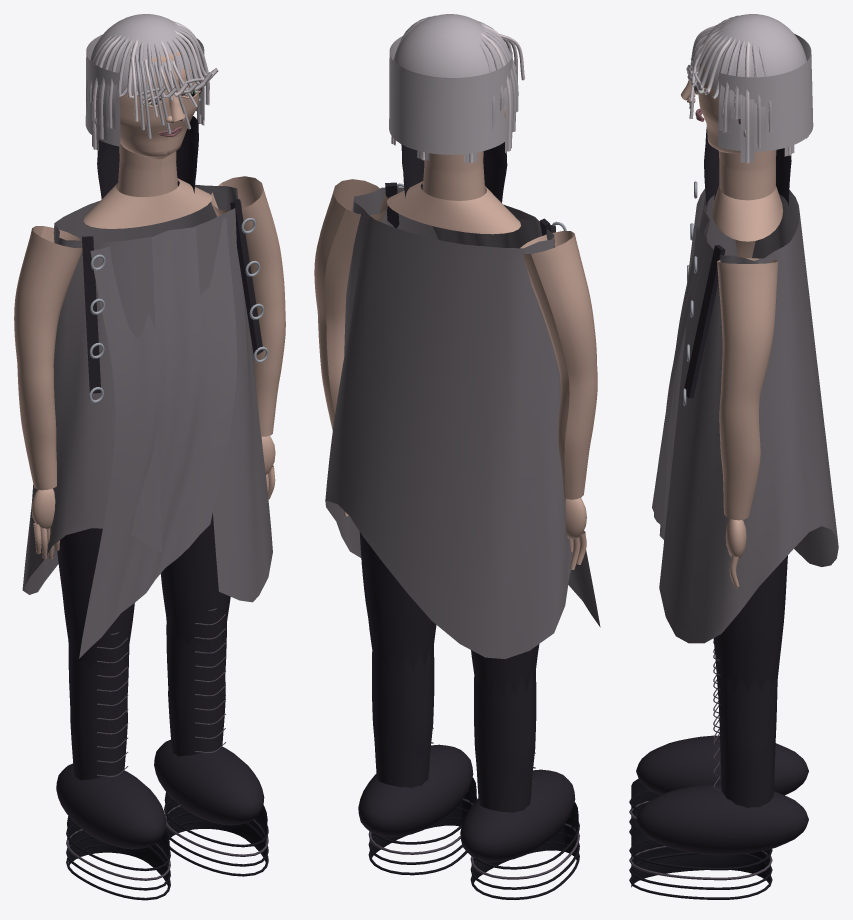
The model's file is look-7-detail.glb.
The picture shows the model from 3 angles, left to right: view 1: azimuth 30°, elevation 25°; view 2: azimuth 150°, elevation 25°; view 3: azimuth 270°, elevation 25°; orthographic projection. The views are drawn at different scales.
Visible parts, largest first — view 1: look-7-detail, leg-1, leg-0, arm-0, arm-1; view 2: look-7-detail, leg-1, leg-0, arm-0, arm-1; view 3: look-7-detail, leg-1, arm-1, leg-0.
Part boxes in pixels (x1,y1,x2,y2): look-7-detail: [22, 14, 272, 658]; leg-1: [154, 512, 268, 876]; leg-0: [56, 528, 170, 900]; arm-0: [14, 226, 82, 559]; arm-1: [211, 176, 285, 499]; look-7-detail: [325, 14, 600, 658]; leg-1: [358, 532, 477, 875]; leg-0: [460, 644, 579, 899]; arm-0: [520, 231, 597, 569]; arm-1: [314, 179, 387, 516]; look-7-detail: [652, 14, 838, 643]; leg-1: [629, 555, 808, 899]; arm-1: [717, 258, 777, 588]; leg-0: [629, 648, 808, 834].
Size of the model in its own units: 0.6774 by 2.04 by 0.4597.
